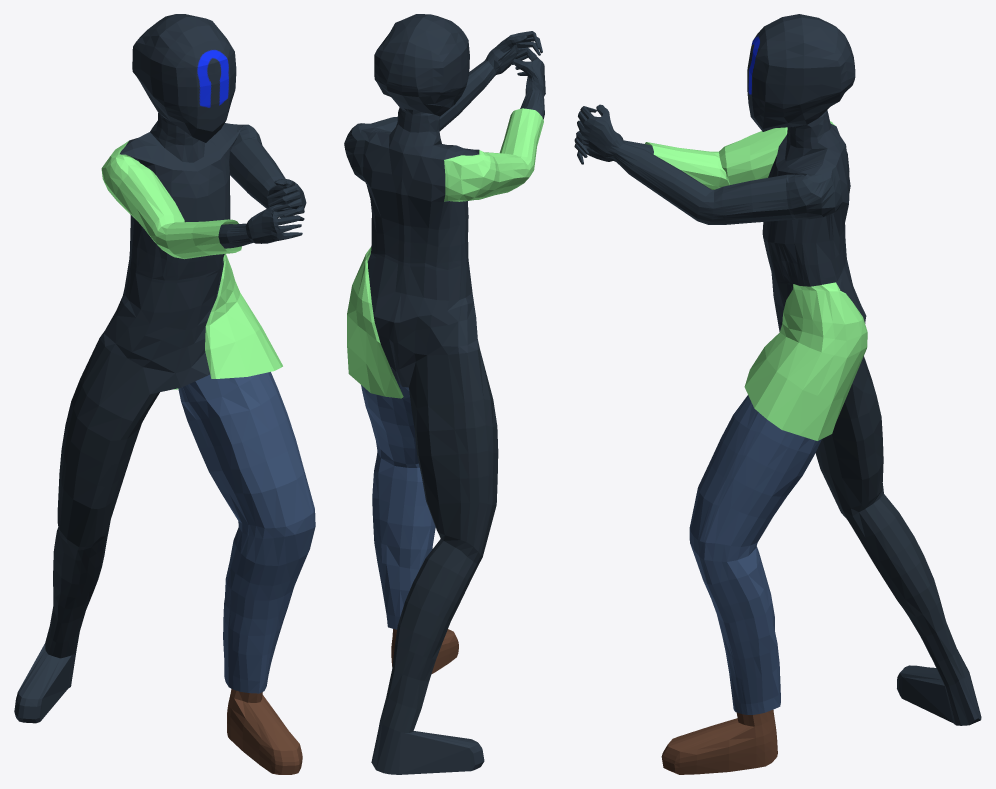
The model's file is Mar_Attack_000005.obj.
3 renders of one model, left to right at view 1: azimuth 30°, elevation 25°; view 2: azimuth 150°, elevation 25°; view 3: azimuth 270°, elevation 25°, orthographic. The views are drawn at different scales.
Visible parts, largest first — view 1: Cube.000_Cube.001; view 2: Cube.000_Cube.001; view 3: Cube.000_Cube.001.
Part boxes in pixels (x1=…): Cube.000_Cube.001: x1=14, y1=14, x2=315, y2=774; Cube.000_Cube.001: x1=344, y1=14, x2=545, y2=774; Cube.000_Cube.001: x1=574, y1=14, x2=981, y2=774.
Size of the model in its own units: 1.12 by 3.8 by 1.92.
